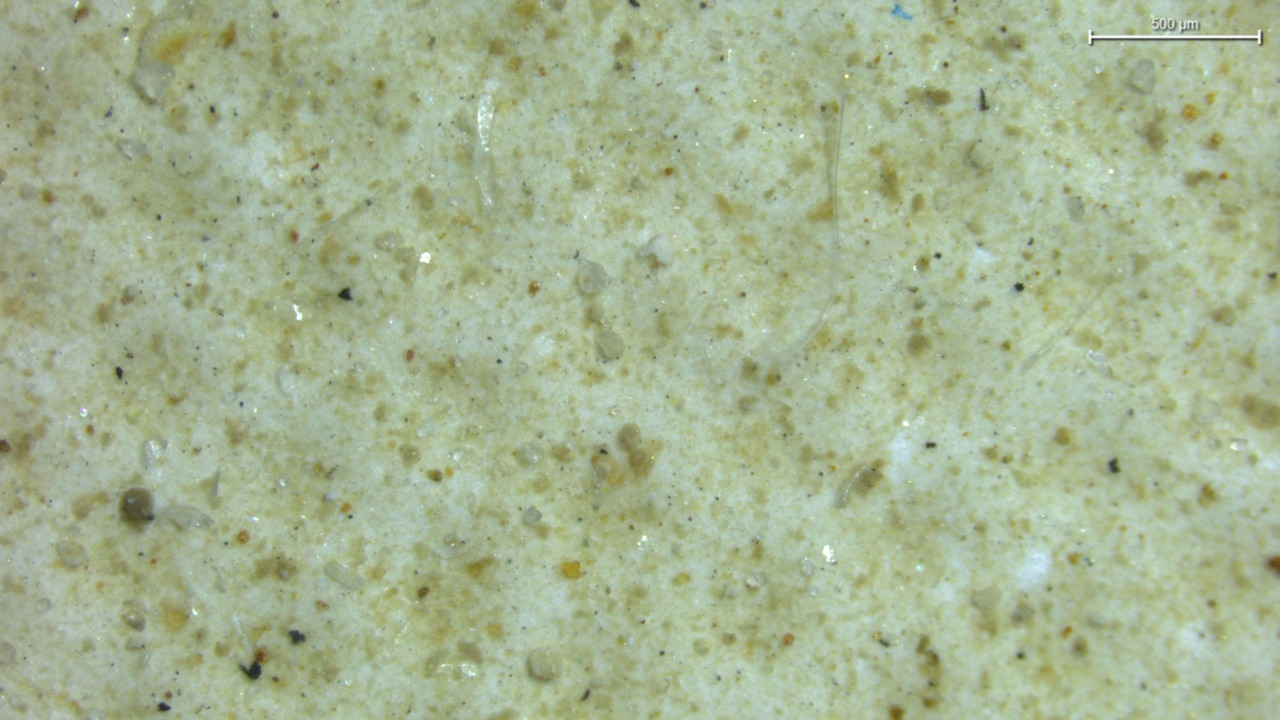microplastic_fragment: (132, 60, 175, 103), (637, 234, 674, 268), (527, 648, 561, 682), (577, 259, 608, 293)
